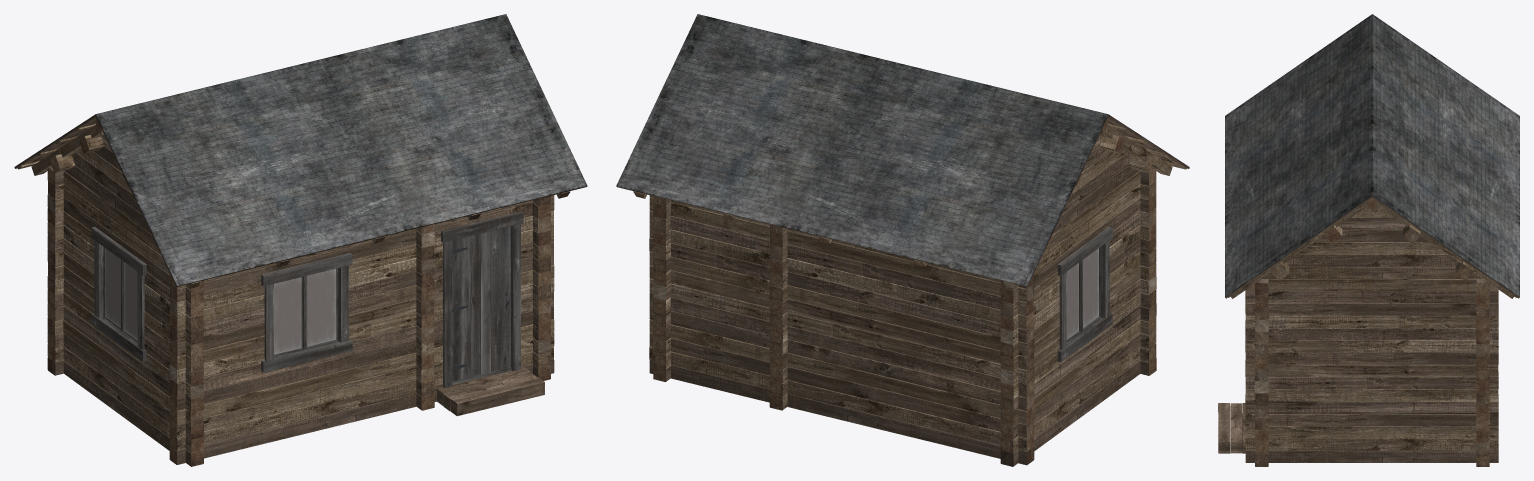
Rendered from cabin1115_jpg.fbx.
3 renders of one model, left to right at view 1: azimuth 30°, elevation 25°; view 2: azimuth 150°, elevation 25°; view 3: azimuth 270°, elevation 25°, orthographic. The views are drawn at different scales.
Visible parts, largest first — view 1: Base, Door; view 2: Base; view 3: Base.
Part boxes in pixels (x1=…): Base: x1=14, y1=14, x2=587, y2=466; Door: x1=452, y1=226, x2=510, y2=381; Base: x1=616, y1=14, x2=1189, y2=466; Base: x1=1218, y1=14, x2=1519, y2=466.
Size of the model in its own units: 514 by 368 by 361.
7 materials, 7 textured.
